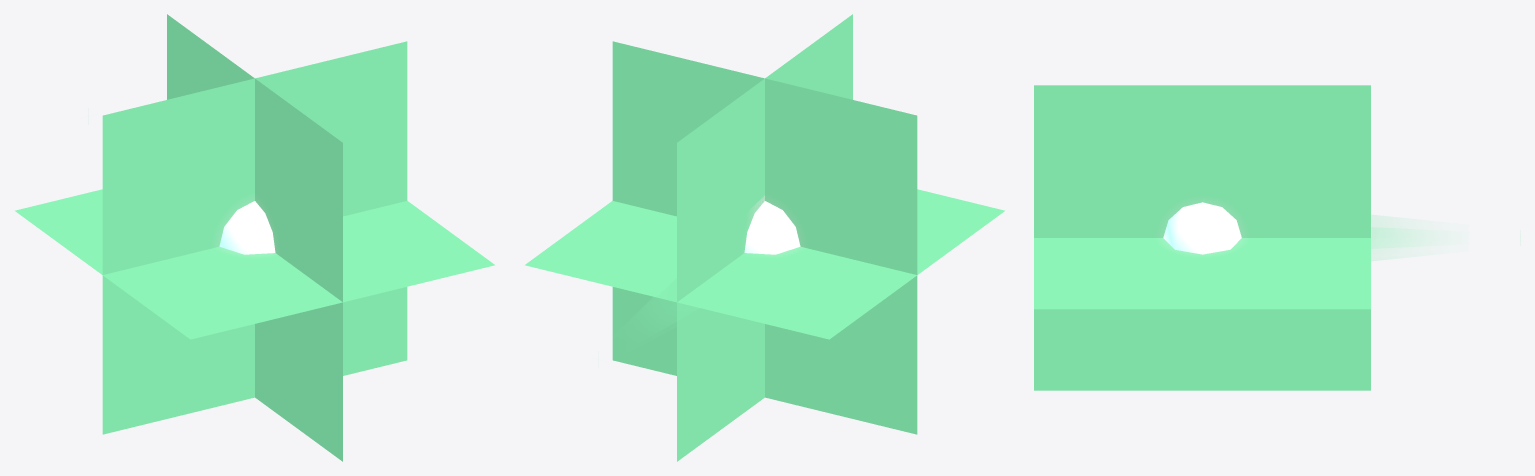
File: fx_wisp_t2.glb
3 renders of one model, left to right at view 1: azimuth 30°, elevation 25°; view 2: azimuth 150°, elevation 25°; view 3: azimuth 270°, elevation 25°, orthographic. The views are drawn at different scales.
Visible parts, largest first — view 1: fx_wisp_glow, fx_wisp_core; view 2: fx_wisp_glow, fx_wisp_tail, fx_wisp_core; view 3: fx_wisp_glow, fx_wisp_core, fx_wisp_tail.
Part boxes in pixels (box(x1,y1,x2,y2)): fx_wisp_glow: box(15, 14, 494, 461); fx_wisp_core: box(219, 201, 275, 254); fx_wisp_glow: box(525, 14, 1004, 461); fx_wisp_tail: box(636, 196, 786, 334); fx_wisp_core: box(744, 201, 800, 254); fx_wisp_glow: box(1034, 85, 1370, 390); fx_wisp_core: box(1163, 202, 1241, 254); fx_wisp_tail: box(1214, 199, 1520, 260).
Size of the model in its own units: 0.9 by 0.9 by 1.3.
3 materials, 2 textured.
